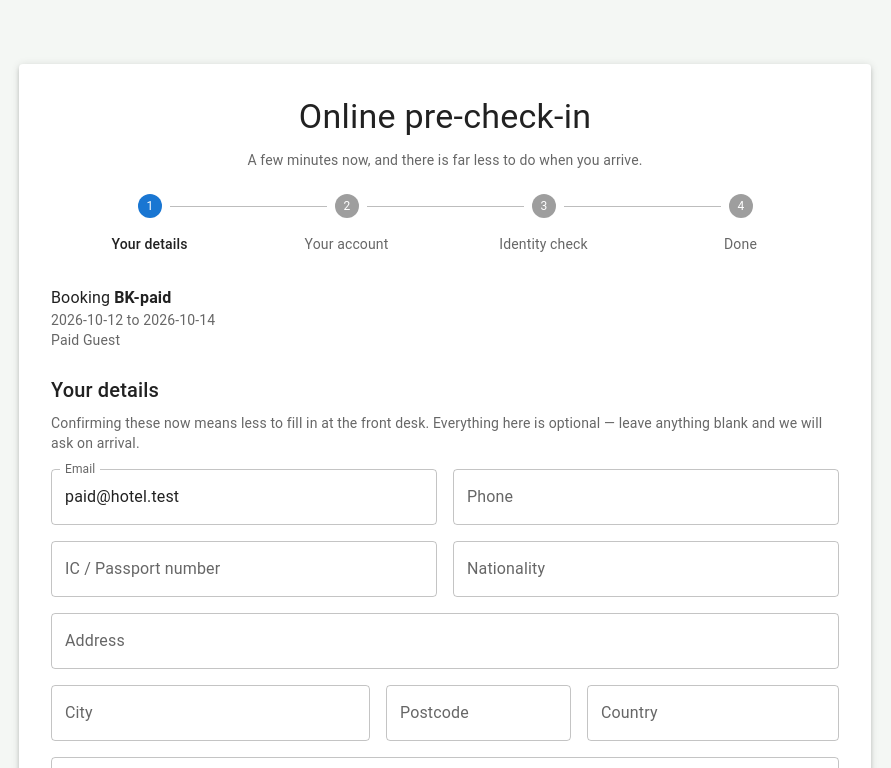
Test: GuestCheckInForm › saves pre-check-in details and moves on to the account step
Type "A1234567" into the field labelled "IC / Passport number" at (244, 569), box [51,541,437,597]
(page scrolled)
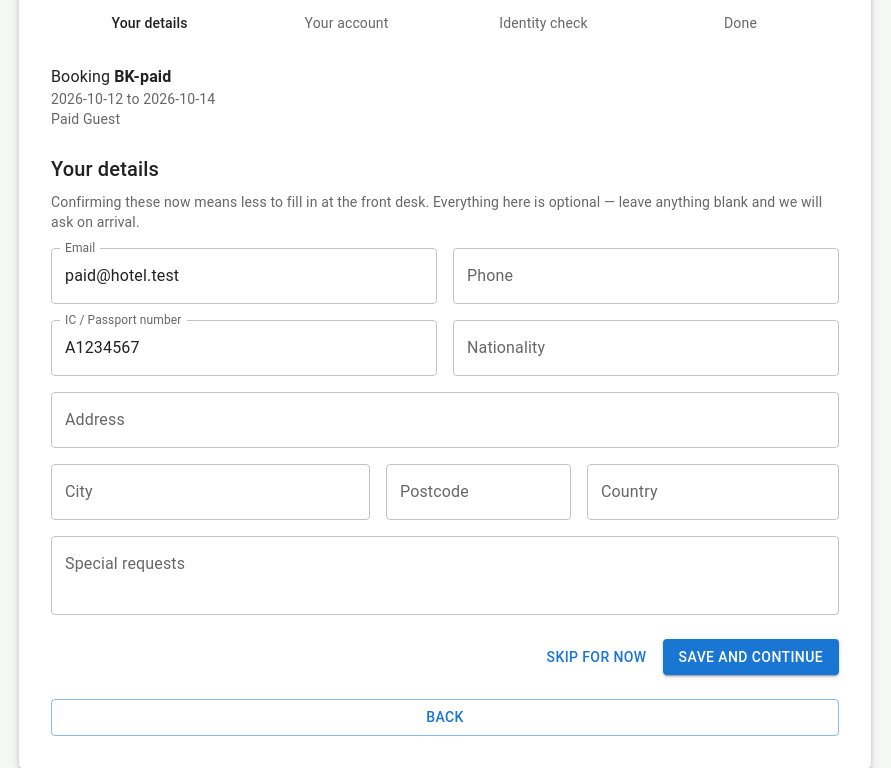
Click the button "Save and continue" at (751, 657), box [663,639,839,676]
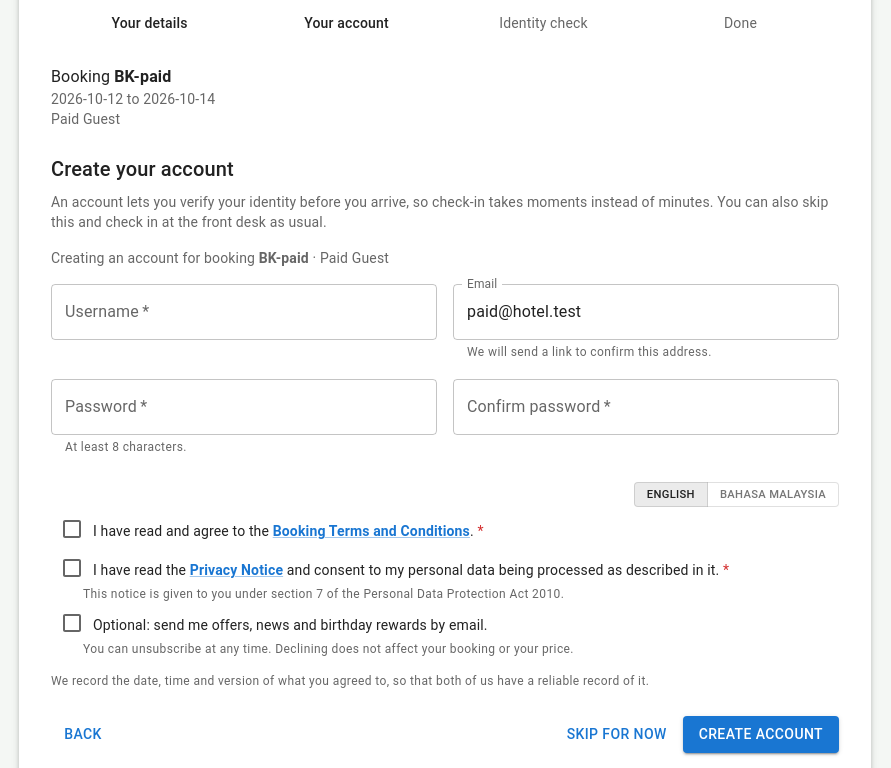
Expected: the heading "Create your account" is shown, [51,157,234,181]
